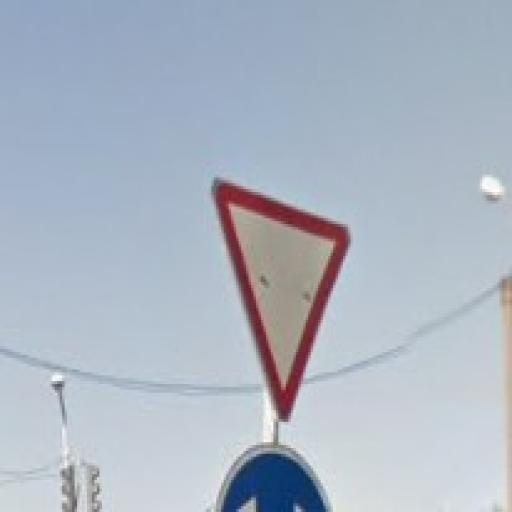traffic_sign: (212, 178, 354, 423)
